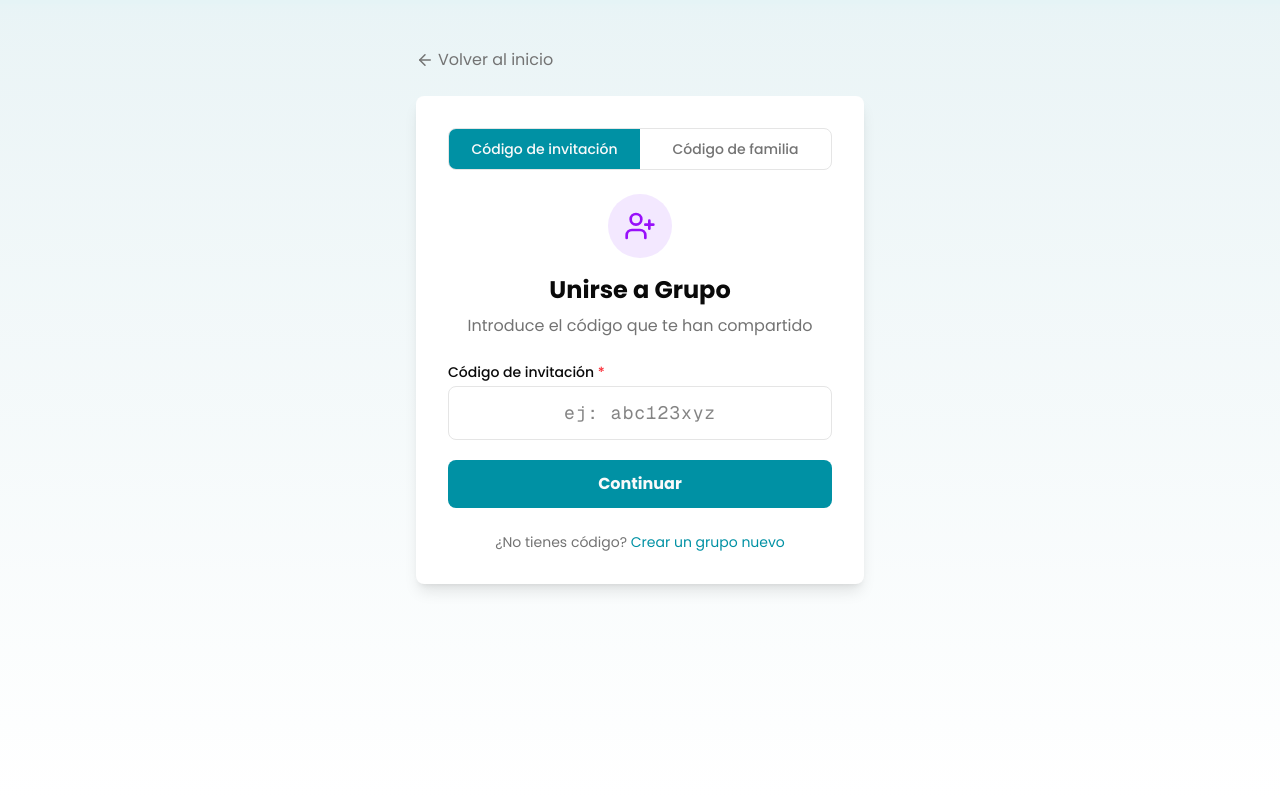
Test case: JoinPage — invite tab (default) › shows error when invite code is too short
Type "abc" into the field with placeholder "ej: abc123xyz" at (640, 413), box [448,386,832,440]
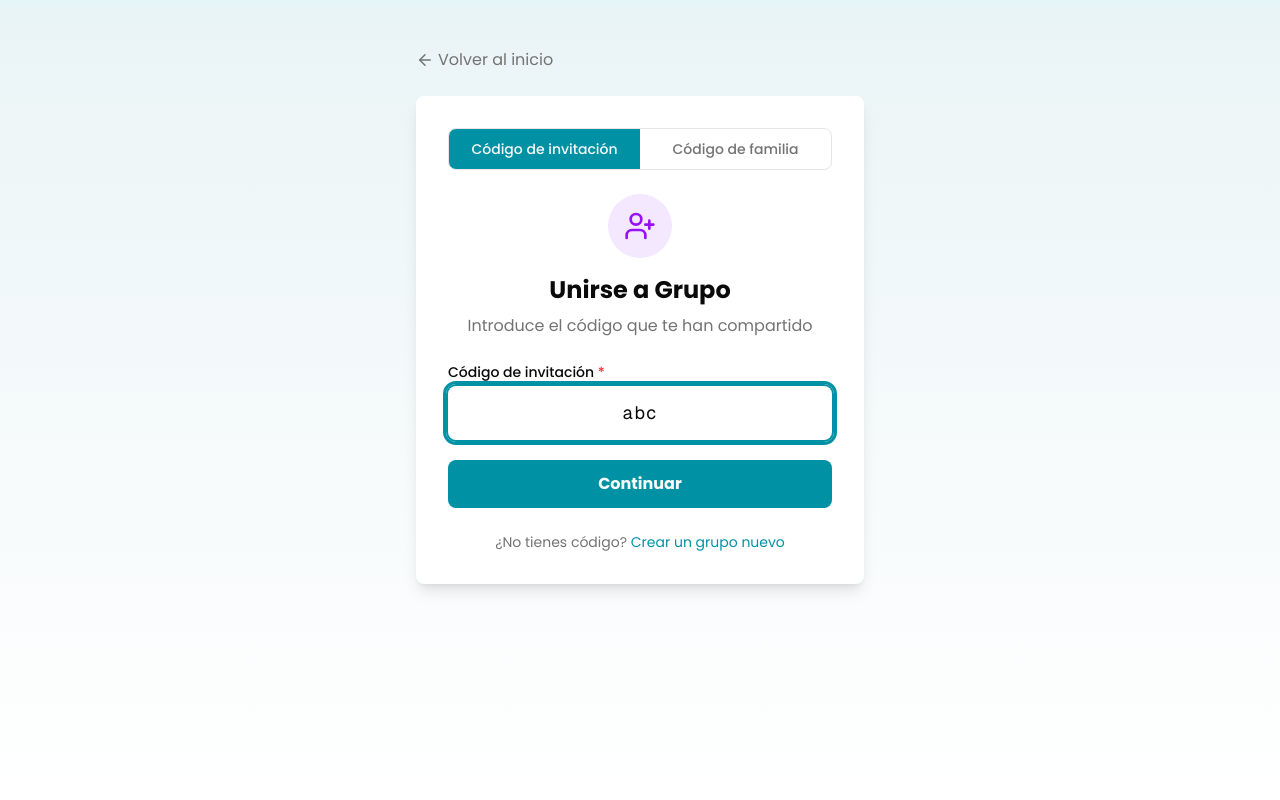
Click the button "Continuar" at (640, 484), box [448,460,832,508]
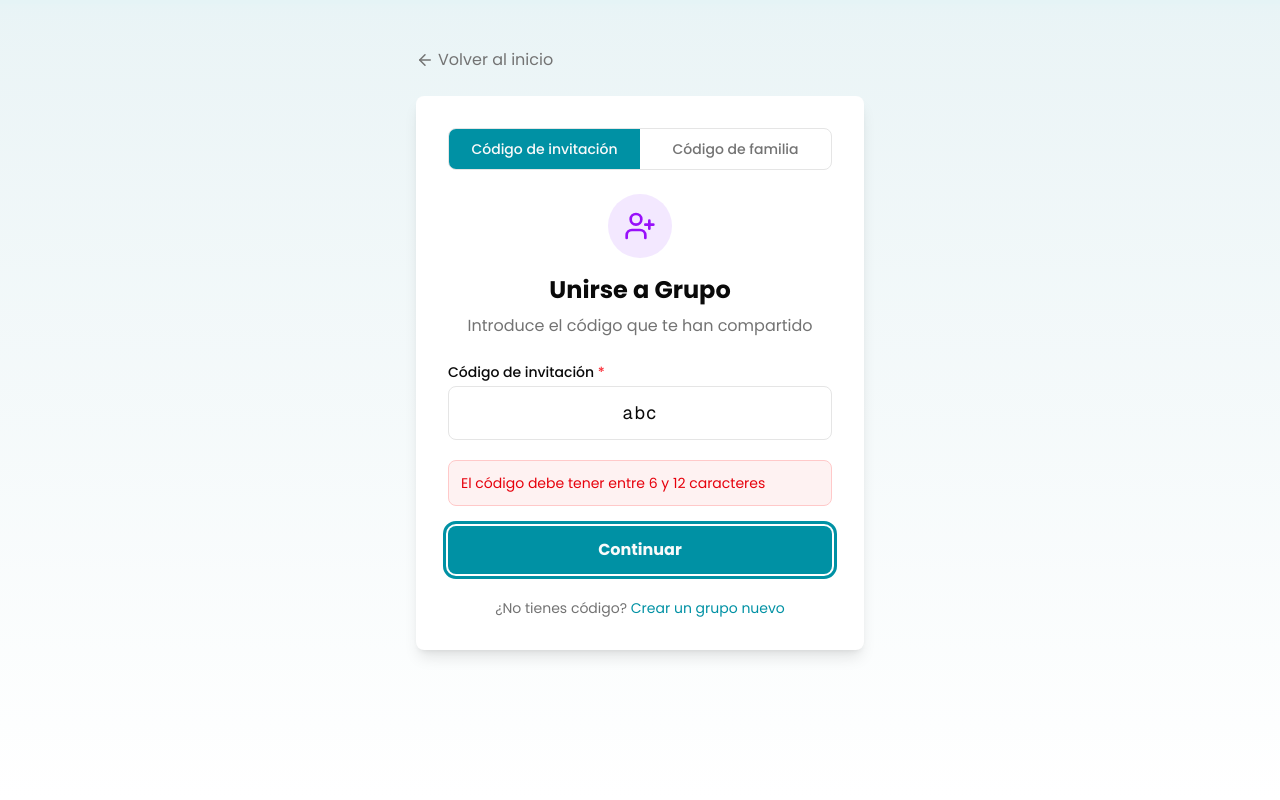
Expected: the text "El código debe tener entre 6 y 12 caracteres" is shown, [448,460,832,506]
